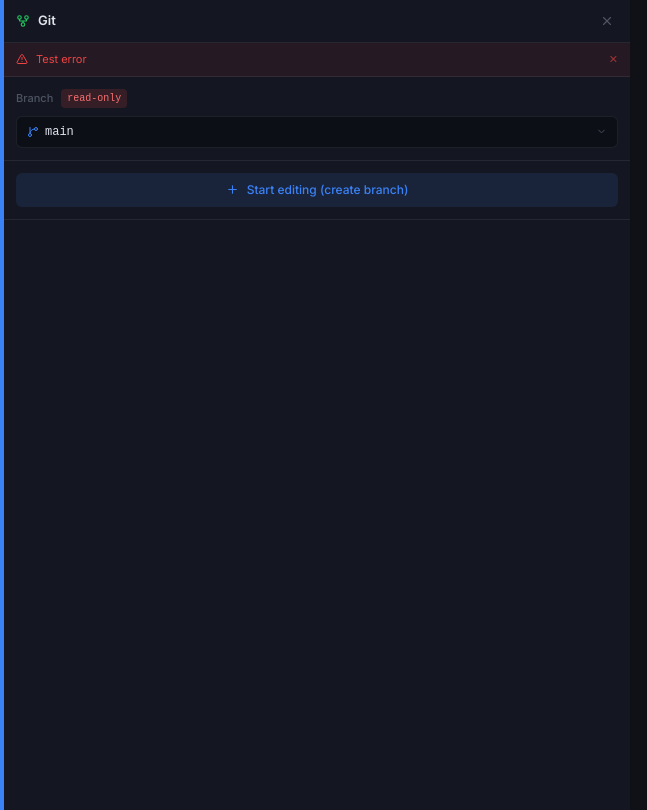
Test: GitPanel › error can be dismissed
Check: the text "Test error" is shown, box [36,52,87,66]
Click the button "✕": (613,59) [609,51,618,68]
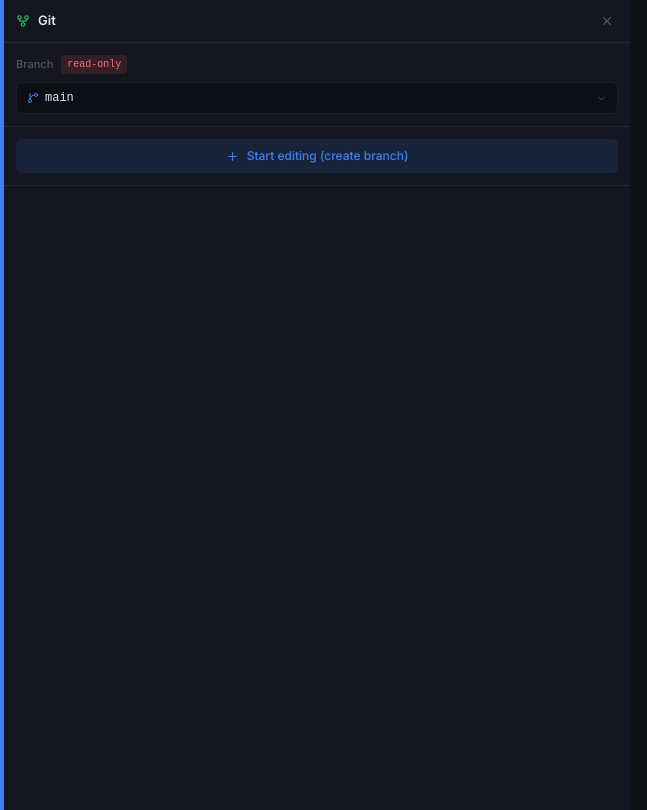
Check: the text "Test error" is gone
